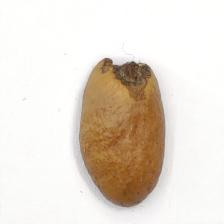NG: (92, 55, 159, 100)
